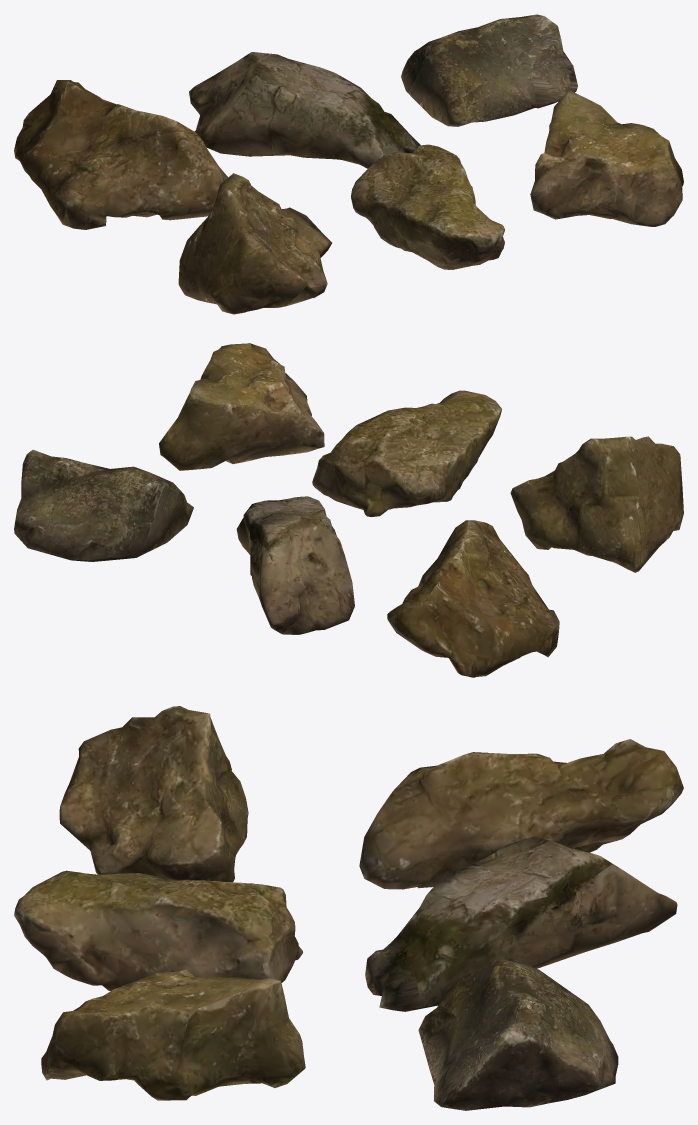
File: rock_moss_set_01.light.glb
3 views of the same model, one above another, from view 1: azimuth 30°, elevation 25°; view 2: azimuth 150°, elevation 25°; view 3: azimuth 270°, elevation 25° (orthographic). The views are drawn at different scales.
Parts seen in each view (by area): view 1: rock_moss_set_01_rock01, rock_moss_set_01_rock02, rock_moss_set_01_rock06, rock_moss_set_01_rock04, rock_moss_set_01_rock03, rock_moss_set_01_rock05; view 2: rock_moss_set_01_rock04, rock_moss_set_01_rock01, rock_moss_set_01_rock05, rock_moss_set_01_rock03, rock_moss_set_01_rock06, rock_moss_set_01_rock02; view 3: rock_moss_set_01_rock01, rock_moss_set_01_rock02, rock_moss_set_01_rock05, rock_moss_set_01_rock04, rock_moss_set_01_rock06, rock_moss_set_01_rock03.
Part boxes in pixels (box(x1,y1,x2,y2)): rock_moss_set_01_rock01: box(14, 80, 227, 229); rock_moss_set_01_rock02: box(189, 52, 420, 168); rock_moss_set_01_rock06: box(530, 90, 683, 226); rock_moss_set_01_rock04: box(178, 173, 331, 314); rock_moss_set_01_rock03: box(401, 14, 577, 126); rock_moss_set_01_rock05: box(351, 144, 504, 269); rock_moss_set_01_rock04: box(510, 436, 683, 572); rock_moss_set_01_rock01: box(387, 520, 559, 677); rock_moss_set_01_rock05: box(312, 390, 501, 516); rock_moss_set_01_rock03: box(14, 449, 193, 561); rock_moss_set_01_rock06: box(159, 343, 324, 470); rock_moss_set_01_rock02: box(236, 496, 354, 634); rock_moss_set_01_rock01: box(359, 739, 683, 889); rock_moss_set_01_rock02: box(365, 836, 677, 1011); rock_moss_set_01_rock05: box(14, 870, 302, 990); rock_moss_set_01_rock04: box(59, 706, 248, 882); rock_moss_set_01_rock06: box(41, 969, 305, 1100); rock_moss_set_01_rock03: box(418, 958, 618, 1110).
Bounding box in the file's own units: 4 × 0.8788 × 3.47.
Materials: 1 (1 with a texture image).
